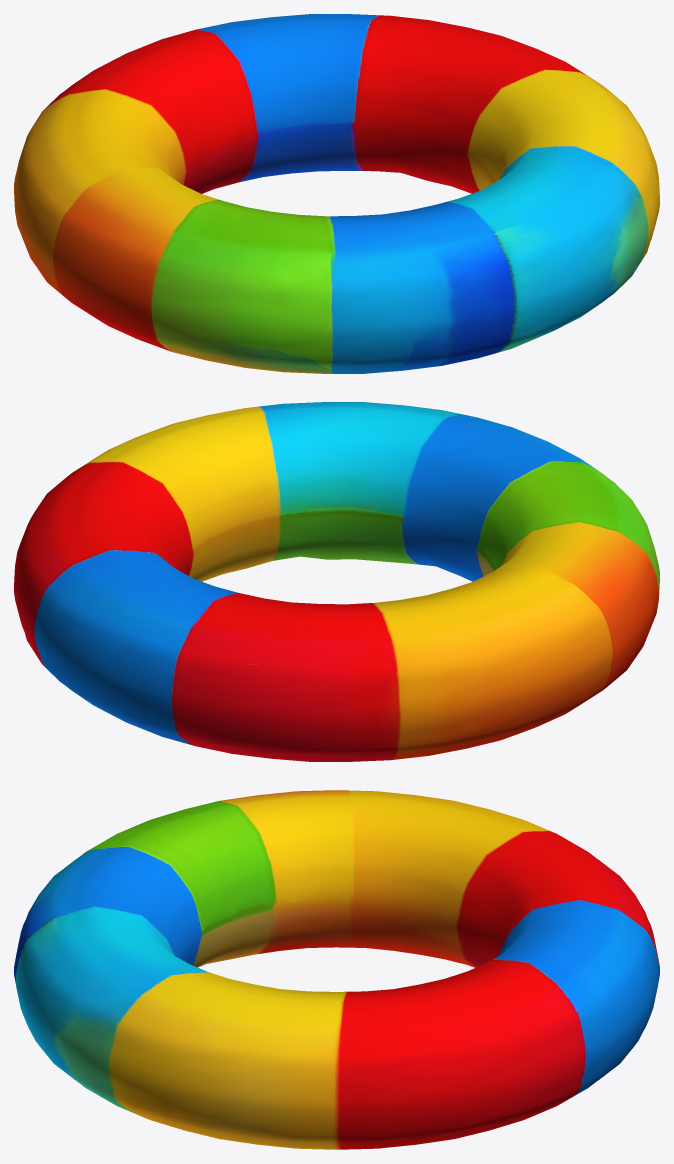
File: Meshy_AI_Float_Ring_0227123012_texture.fbx
3 views of the same model, one above another, from view 1: azimuth 30°, elevation 25°; view 2: azimuth 150°, elevation 25°; view 3: azimuth 270°, elevation 25° (orthographic).
Parts seen in each view (by area): view 1: Mesh_0; view 2: Mesh_0; view 3: Mesh_0.
Boxes of the visible parts, x1=… form: Mesh_0: x1=14, y1=14, x2=659, y2=373; Mesh_0: x1=14, y1=402, x2=659, y2=761; Mesh_0: x1=14, y1=790, x2=659, y2=1149.
Bounding box in the file's own units: 191 × 45.79 × 191.
1 material, 1 textured.
